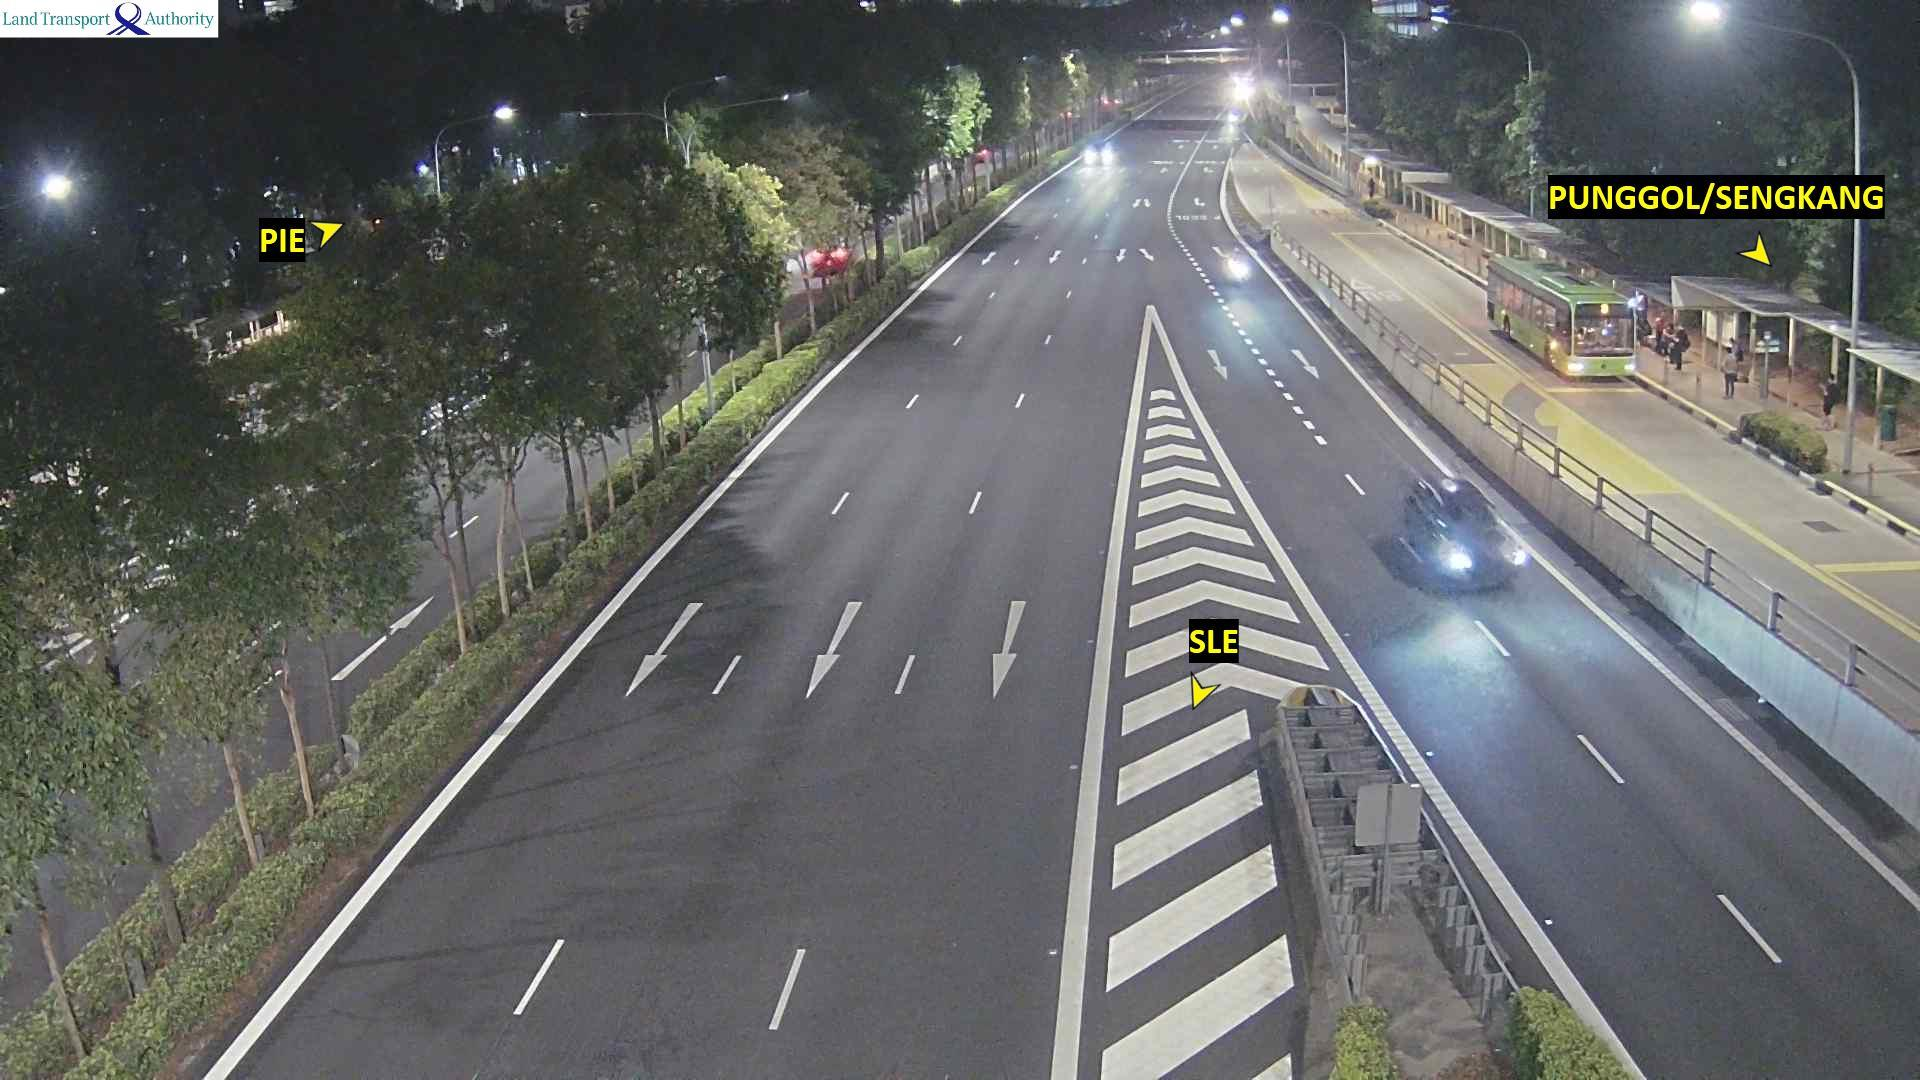bus: (1484, 253, 1638, 380)
cars: (1395, 471, 1528, 593), (802, 243, 851, 277), (1081, 135, 1115, 165), (1228, 68, 1256, 101), (971, 145, 991, 163)
motorcycle: (1222, 242, 1250, 289)
